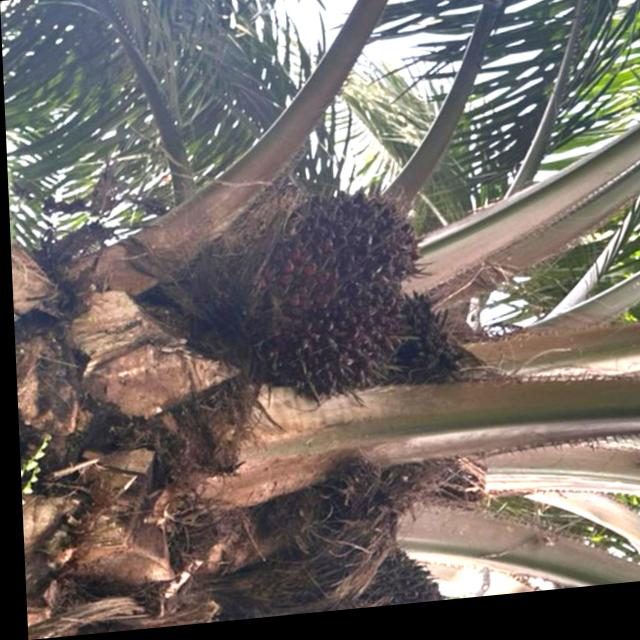ripe: (220, 186, 439, 418)
